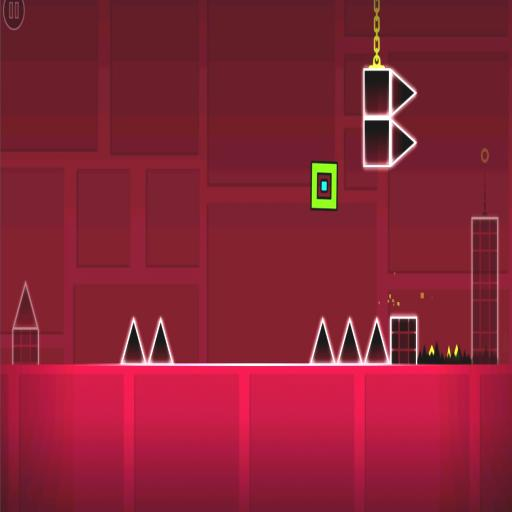block: (469, 213, 501, 360), (360, 62, 393, 178), (388, 310, 420, 374), (9, 325, 41, 372)
player: (310, 163, 338, 209)
spike: (11, 282, 38, 328), (309, 319, 334, 363), (148, 318, 172, 363), (120, 318, 144, 363), (390, 72, 415, 115), (390, 121, 415, 164), (337, 319, 361, 363), (364, 319, 387, 363), (428, 345, 433, 355), (446, 346, 450, 357), (453, 345, 457, 356)
